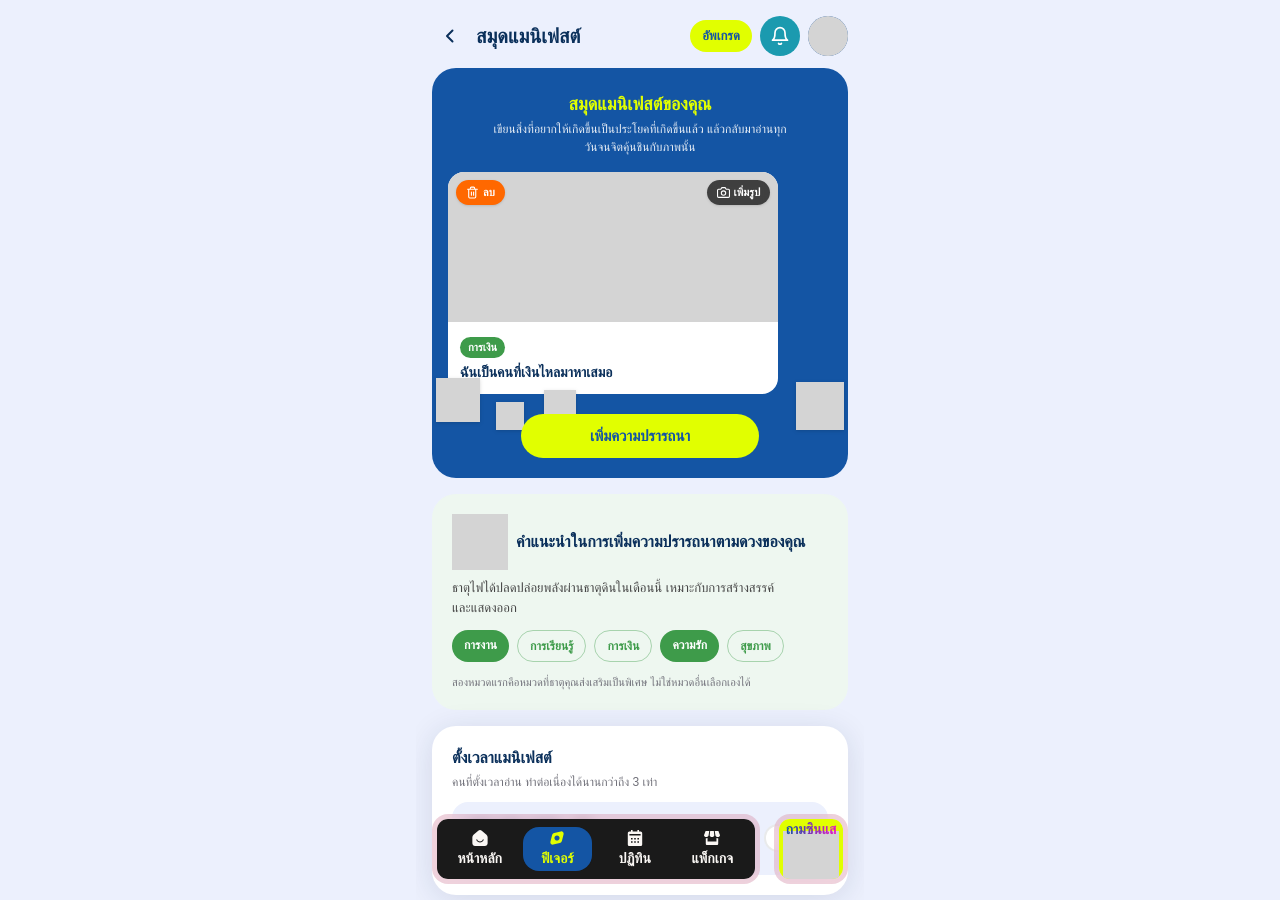
Test case: จอสมุดแมนิเฟสต์ (rebuilt) › P3-18: ยืนยันลบ → ยิง DELETE /api/v2/manifest/goals + เอาการ์ดออก
Click the button with test id "manifest-delete" at (480,192), box left=456, top=180, right=505, bottom=204
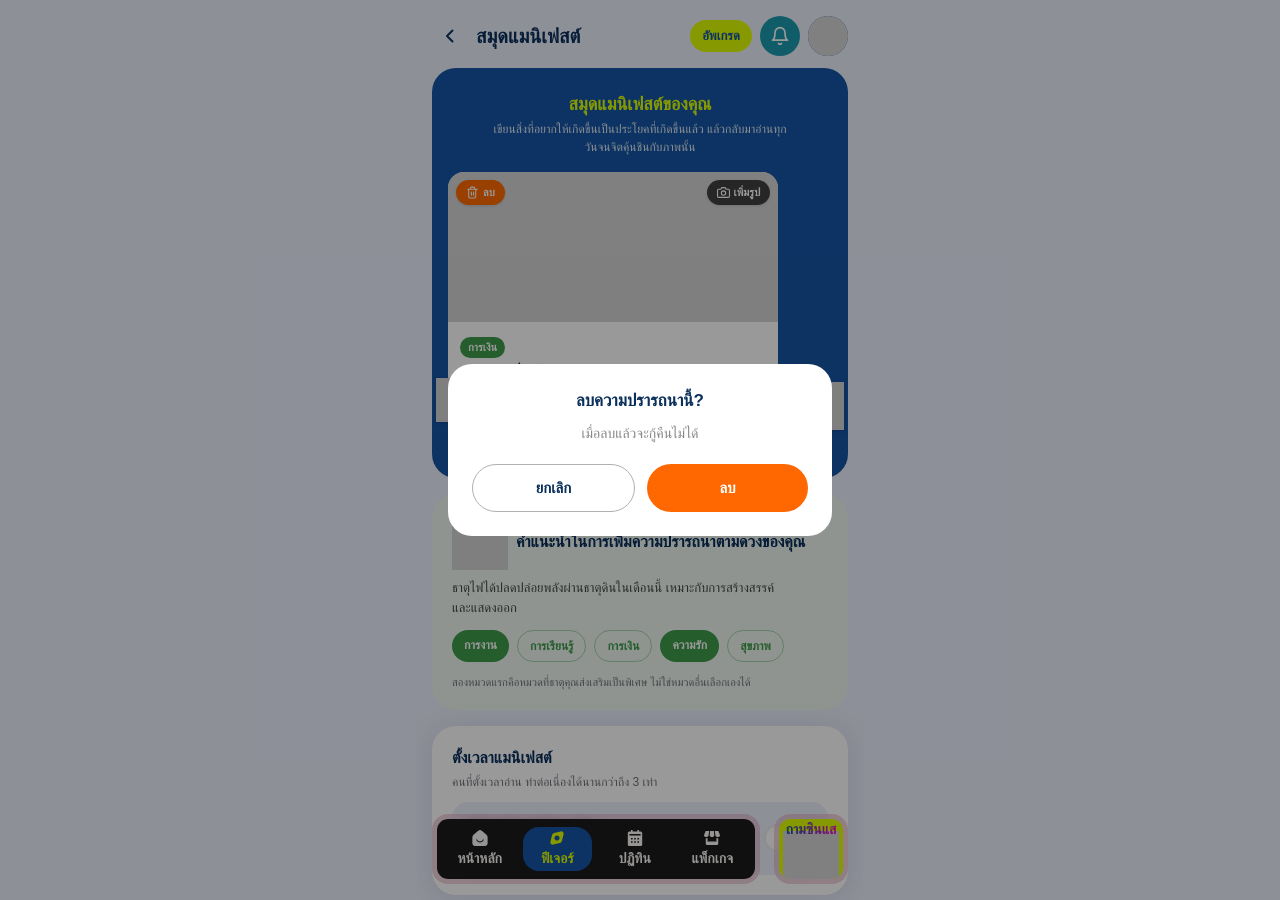
Click the button with test id "manifest-delete-confirm-btn" at (728,488), box left=647, top=464, right=808, bottom=512
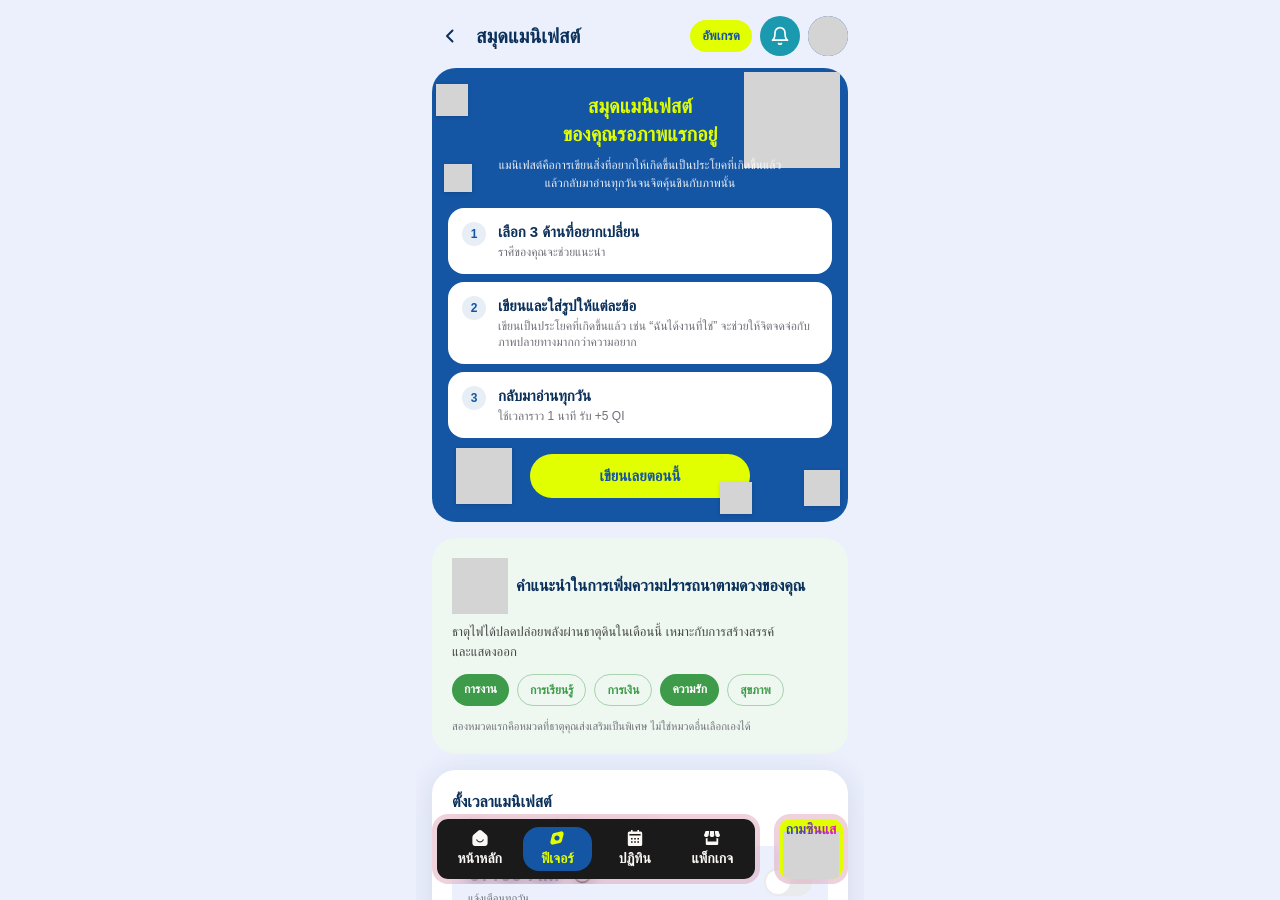
Now the element with test id "manifest-goal" is gone
